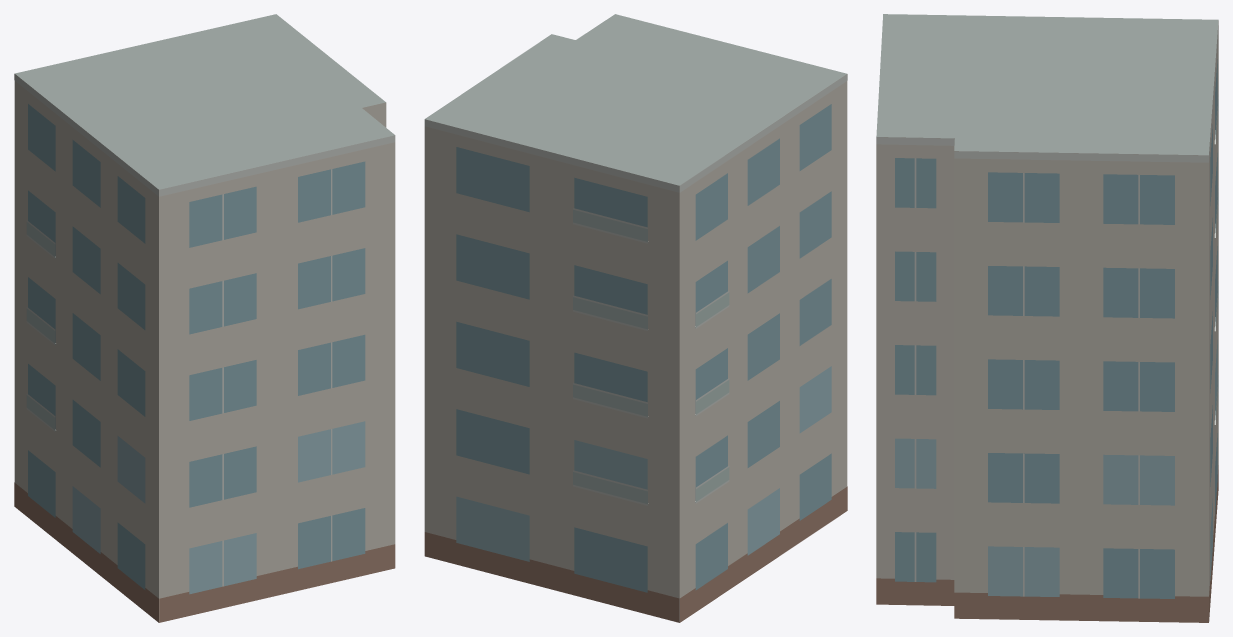
File: survey-upis-32663498.glb
The picture shows the model from 3 angles, left to right: view 1: azimuth 30°, elevation 25°; view 2: azimuth 150°, elevation 25°; view 3: azimuth 270°, elevation 25°; orthographic projection. The views are drawn at different scales.
Visible parts, largest first — view 1: survey-upis-32663498.tmp; view 2: survey-upis-32663498.tmp; view 3: survey-upis-32663498.tmp.
Part boxes in pixels (left/top/right/bottom): survey-upis-32663498.tmp: left=14, top=14, right=395, bottom=622; survey-upis-32663498.tmp: left=424, top=14, right=847, bottom=622; survey-upis-32663498.tmp: left=876, top=14, right=1218, bottom=622.
Bounding box in the file's own units: 9.86 × 15.2 × 10.09.
